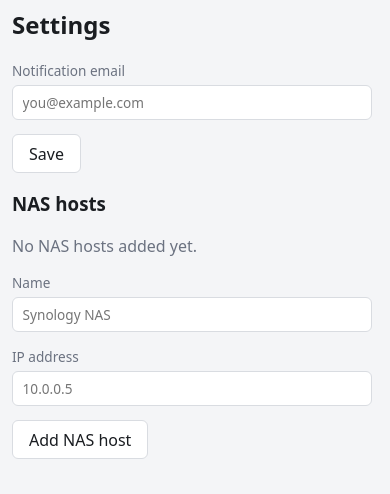
Test: Settings NAS hosts › adds a NAS host and appends it to the list
Expected: the text "No NAS hosts added yet." is shown, [12, 235, 197, 257]
In the field with placeholder "Synology NAS": (192, 315) [12, 297, 372, 332], type "QNAP"
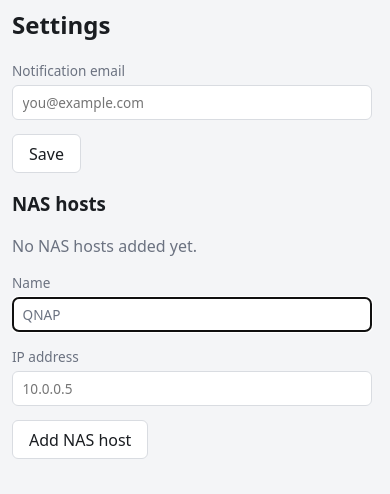
In the field with placeholder "10.0.0.5": (192, 388) [12, 370, 372, 406], type "10.0.0.6"
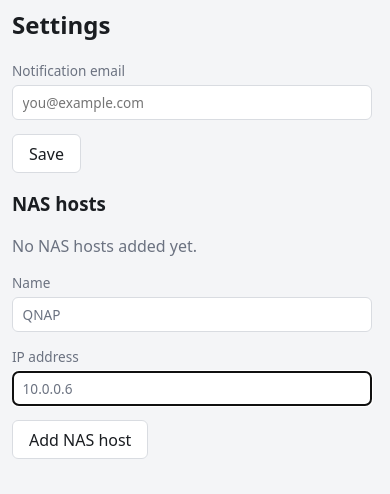
Click the button "Add NAS host": (80, 440) [12, 420, 148, 459]
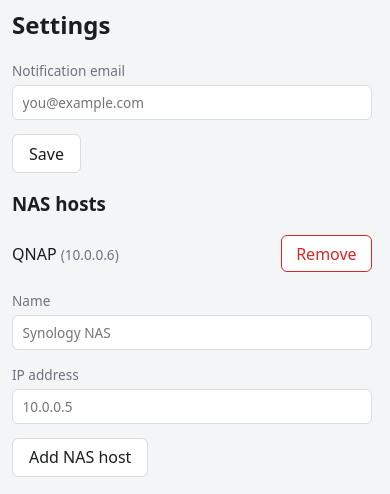
Result: the text "QNAP" is shown at [12, 243, 57, 265]
